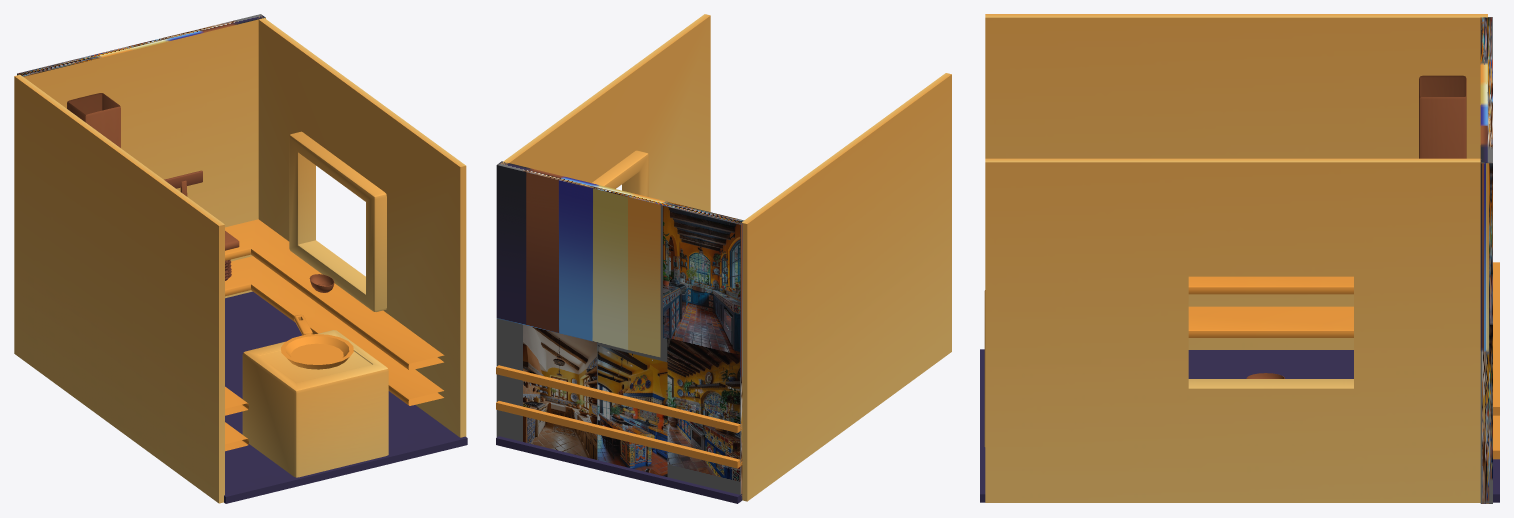
File: cocine2.fbx
3 views of the same model, side by side, from view 1: azimuth 30°, elevation 25°; view 2: azimuth 150°, elevation 25°; view 3: azimuth 270°, elevation 25° (orthographic). The views are drawn at different scales.
Visible parts, largest first — view 1: Msh_Pared002, Msh_Pared000, Msh_Pared001, Msh_Estufa, Msh_Suelo, Msh_Mesa000, Msh_Mesa001, Msh_Sarten, Msh_Horno; view 2: Msh_Pared001, Msh_Pared002, Msh_Pared000, Msh_Suelo, Msh_Mesa000, Msh_Mesa001; view 3: Msh_Pared000, Msh_Pared002, Msh_Pared001, Msh_Suelo, Msh_Mesa001, Msh_Mesa000, Msh_Horno.
Part boxes in pixels (x1=…): Msh_Pared002: x1=14, y1=75, x2=224, y2=503; Msh_Pared000: x1=258, y1=16, x2=466, y2=437; Msh_Pared001: x1=17, y1=14, x2=265, y2=298; Msh_Estufa: x1=242, y1=330, x2=388, y2=477; Msh_Suelo: x1=224, y1=291, x2=467, y2=503; Msh_Mesa000: x1=225, y1=219, x2=444, y2=415; Msh_Mesa001: x1=225, y1=256, x2=443, y2=451; Msh_Sarten: x1=281, y1=314, x2=353, y2=369; Msh_Horno: x1=67, y1=93, x2=120, y2=147; Msh_Pared001: x1=496, y1=161, x2=744, y2=500; Msh_Pared002: x1=742, y1=73, x2=951, y2=501; Msh_Pared000: x1=500, y1=14, x2=710, y2=211; Msh_Suelo: x1=496, y1=436, x2=742, y2=503; Msh_Mesa000: x1=496, y1=365, x2=742, y2=432; Msh_Mesa001: x1=496, y1=401, x2=742, y2=468; Msh_Pared000: x1=985, y1=158, x2=1480, y2=502; Msh_Pared002: x1=985, y1=14, x2=1487, y2=349; Msh_Pared001: x1=1480, y1=17, x2=1492, y2=503; Msh_Suelo: x1=980, y1=349, x2=1499, y2=502; Msh_Mesa001: x1=1188, y1=306, x2=1499, y2=459; Msh_Mesa000: x1=1188, y1=262, x2=1499, y2=415; Msh_Horno: x1=1419, y1=75, x2=1466, y2=158.
Bounding box in the file's own units: 84.62 × 90.27 × 125.
Materials: 1 (1 with a texture image).
